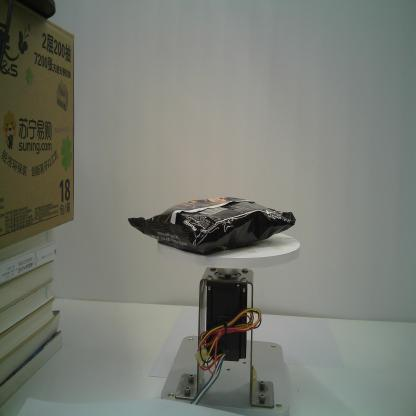Instant Noodles: (124, 193, 297, 256)
